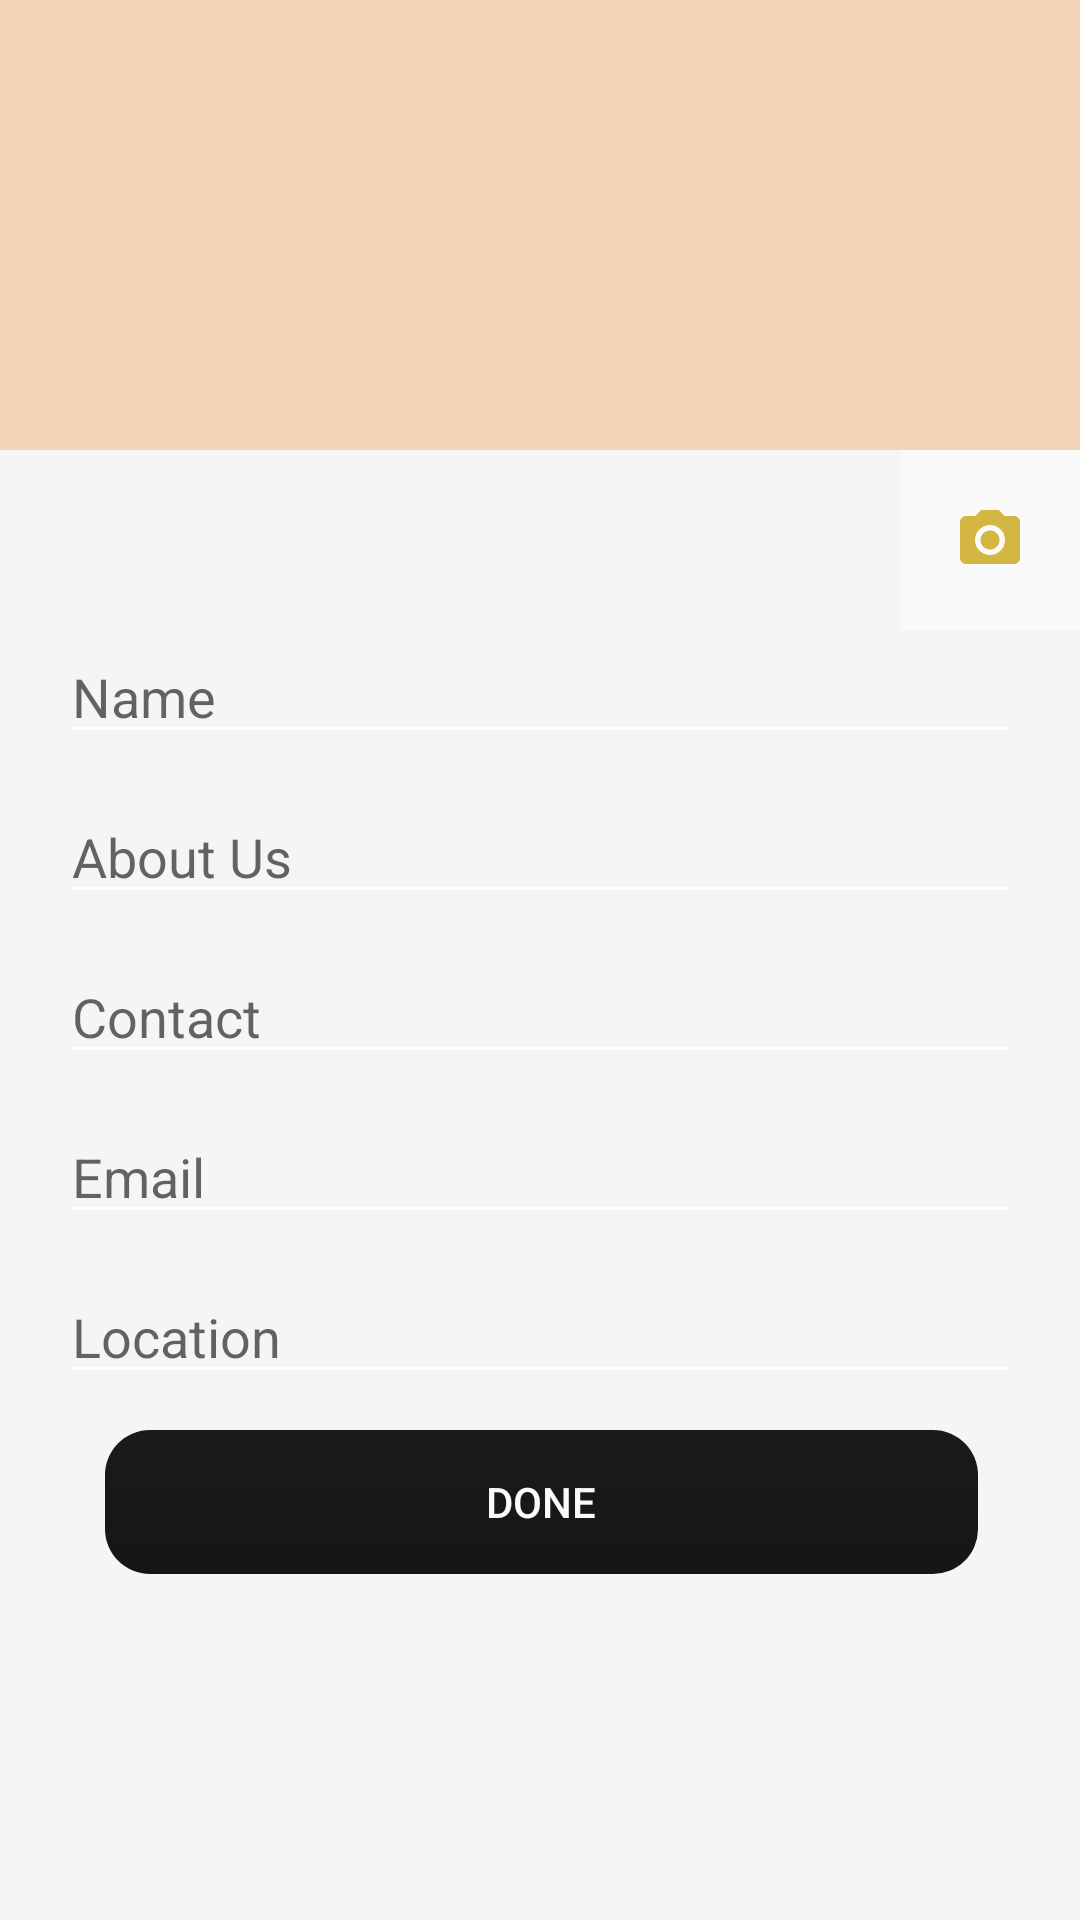

Named icons in this screenshot (1080px x 1920px) and their bounding boxes, (x1, y1, x2, y2):
camera: (960, 510, 1020, 564)
